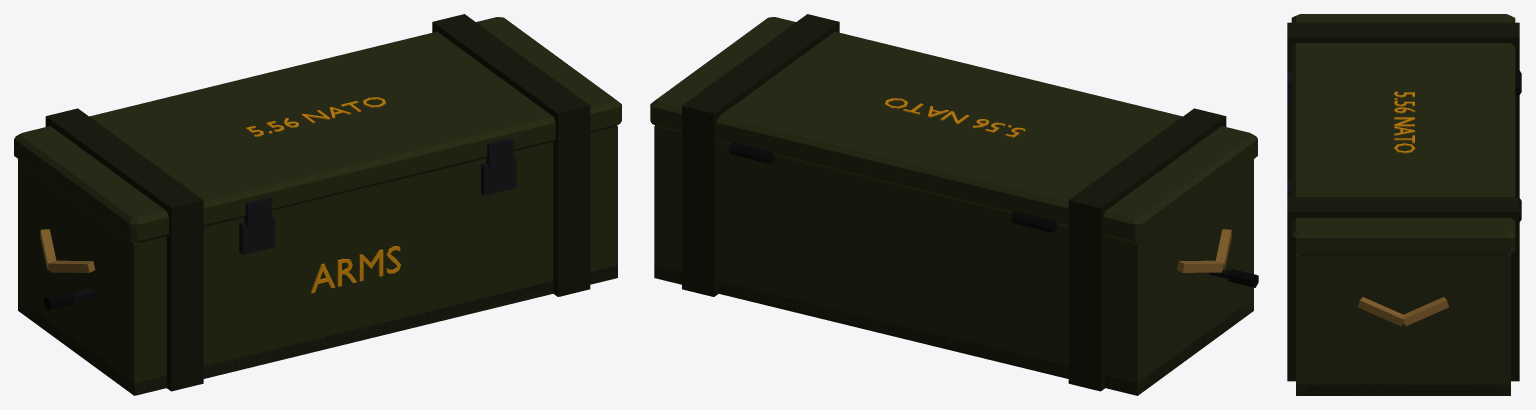
The model's file is SM_Int_Chest_Military.glb.
3 views of the same model, side by side, from view 1: azimuth 30°, elevation 25°; view 2: azimuth 150°, elevation 25°; view 3: azimuth 270°, elevation 25° (orthographic). The views are drawn at different scales.
Visible parts, largest first — view 1: SM_Int_Chest_Military, SM_Int_Chest_Military_Lid; view 2: SM_Int_Chest_Military, SM_Int_Chest_Military_Lid; view 3: SM_Int_Chest_Military_Lid, SM_Int_Chest_Military.
Part boxes in pixels (x1,y1,x2,y2): SM_Int_Chest_Military: [18, 125, 617, 395]; SM_Int_Chest_Military_Lid: [14, 14, 621, 243]; SM_Int_Chest_Military: [654, 125, 1258, 395]; SM_Int_Chest_Military_Lid: [650, 14, 1257, 243]; SM_Int_Chest_Military_Lid: [1287, 14, 1521, 255]; SM_Int_Chest_Military: [1287, 66, 1519, 395].
Bounding box in the file's own units: 1.38 × 0.435 × 0.545.
1 material, 1 textured.
